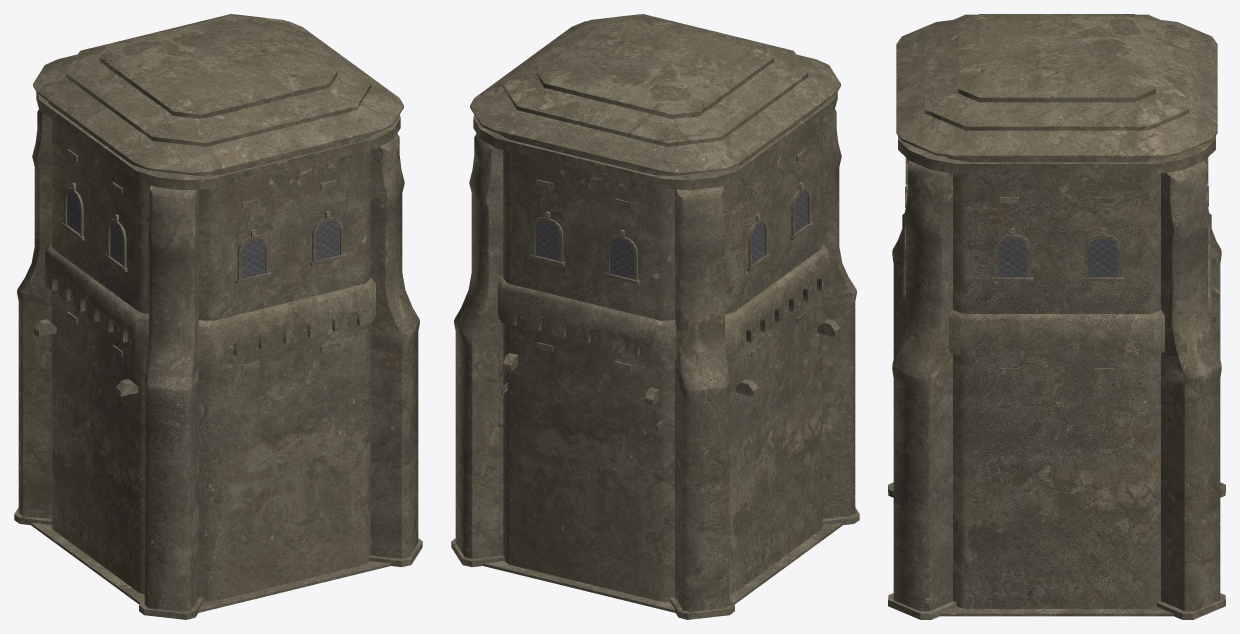
Rendered from rampart_tower.gltf.
The picture shows the model from 3 angles, left to right: view 1: azimuth 30°, elevation 25°; view 2: azimuth 150°, elevation 25°; view 3: azimuth 270°, elevation 25°; orthographic projection. The views are drawn at different scales.
Parts seen in each view (by area): view 1: rampart_tower; view 2: rampart_tower; view 3: rampart_tower.
Boxes of the visible parts, x1,y1,x2,y2 form: rampart_tower: [14, 14, 422, 619]; rampart_tower: [451, 14, 859, 619]; rampart_tower: [888, 14, 1225, 619].
Size of the model in its own units: 23.27 by 37.82 by 23.12.
2 materials, 2 textured.
